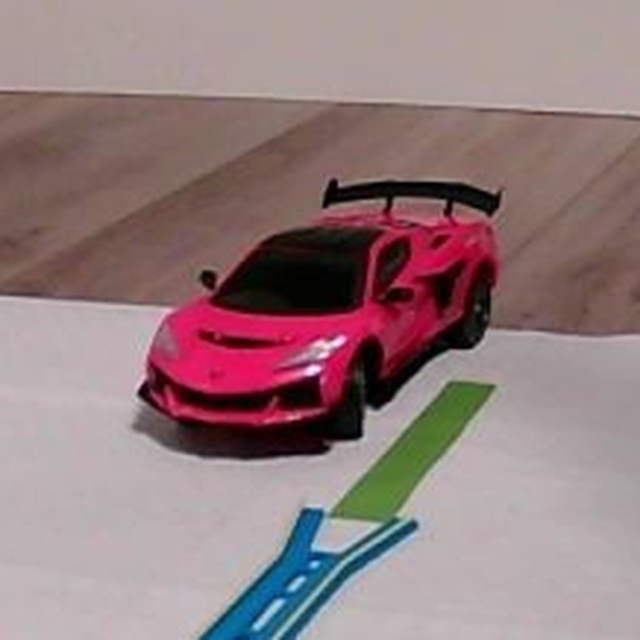tire_front_driver: (325, 370, 365, 440)
tire_rear_driver: (445, 290, 490, 345)
